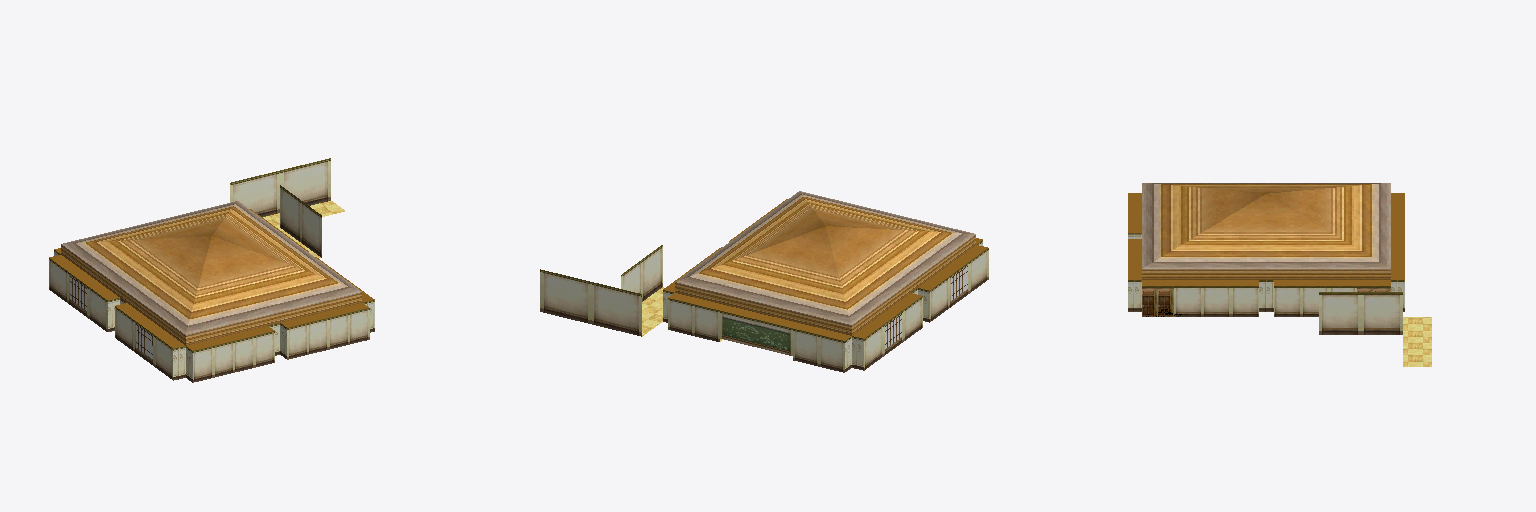
The picture shows the model from 3 angles: view 1: azimuth 30°, elevation 25°; view 2: azimuth 150°, elevation 25°; view 3: azimuth 270°, elevation 25°; orthographic projection.
Visible parts, largest first — view 1: Nemu_1D99E392_0_14, Nemu_19A9B719_0_6, Nemu_9C60A57_0_11, Nemu_19A9B719_0_2, Nemu_75ADD328_0_12, Nemu_63101C9_0_7, Nemu_7C324ADE_7C324ADE_1; view 2: Nemu_1D99E392_0_14, Nemu_19A9B719_0_6, Nemu_9C60A57_0_11, Nemu_19A9B719_0_2, Nemu_75ADD328_0_12, Nemu_[number redacted]C_0_3, Nemu_617B7A94_0_4, Nemu_63101C9_0_7, Nemu_7C324ADE_7C324ADE_1; view 3: Nemu_1D99E392_0_14, Nemu_9C60A57_0_11, Nemu_19A9B719_0_6, Nemu_19A9B719_0_2, Nemu_7C324ADE_7C324ADE_1, Nemu_75ADD328_0_12, Nemu_785A6CCF_0_5.
Part boxes in pixels (x1,y1,x2,y2): Nemu_1D99E392_0_14: (62, 201, 361, 334); Nemu_19A9B719_0_6: (49, 258, 369, 382); Nemu_9C60A57_0_11: (49, 209, 374, 350); Nemu_19A9B719_0_2: (230, 158, 330, 257); Nemu_75ADD328_0_12: (54, 250, 374, 382); Nemu_63101C9_0_7: (70, 276, 152, 359); Nemu_7C324ADE_7C324ADE_1: (263, 201, 344, 257); Nemu_1D99E392_0_14: (676, 191, 975, 324); Nemu_19A9B719_0_6: (668, 248, 988, 372); Nemu_9C60A57_0_11: (663, 199, 987, 340); Nemu_19A9B719_0_2: (540, 245, 662, 336); Nemu_75ADD328_0_12: (663, 240, 982, 371); Nemu_[number redacted]C_0_3: (756, 319, 792, 355); Nemu_617B7A94_0_4: (720, 311, 755, 346); Nemu_63101C9_0_7: (885, 266, 967, 349); Nemu_7C324ADE_7C324ADE_1: (642, 287, 723, 341); Nemu_1D99E392_0_14: (1142, 183, 1390, 268); Nemu_9C60A57_0_11: (1128, 193, 1404, 285); Nemu_19A9B719_0_6: (1174, 286, 1356, 316); Nemu_19A9B719_0_2: (1319, 292, 1402, 334); Nemu_7C324ADE_7C324ADE_1: (1403, 317, 1431, 366); Nemu_75ADD328_0_12: (1128, 233, 1404, 311); Nemu_785A6CCF_0_5: (1142, 286, 1390, 316).
Bounding box in the file's own units: 2976 × 702 × 2588.
19 materials, 18 textured.